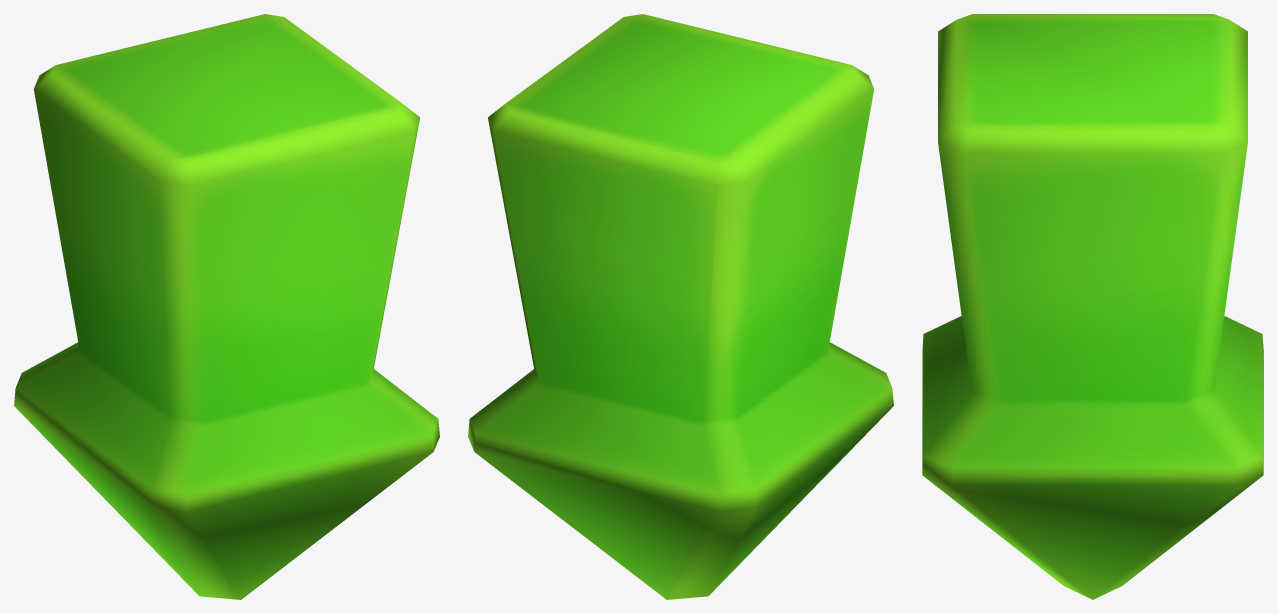
File: jiantou_1.FBX
3 renders of one model, left to right at view 1: azimuth 30°, elevation 25°; view 2: azimuth 150°, elevation 25°; view 3: azimuth 270°, elevation 25°, orthographic. The views are drawn at different scales.
Visible parts, largest first — view 1: jiantou1; view 2: jiantou1; view 3: jiantou1.
Part boxes in pixels (box(x1,y1,x2,y2)): jiantou1: box(14, 14, 439, 599); jiantou1: box(468, 14, 893, 599); jiantou1: box(922, 14, 1263, 599).
Bounding box in the file's own units: 0.7295 × 0.7309 × 1.21.
